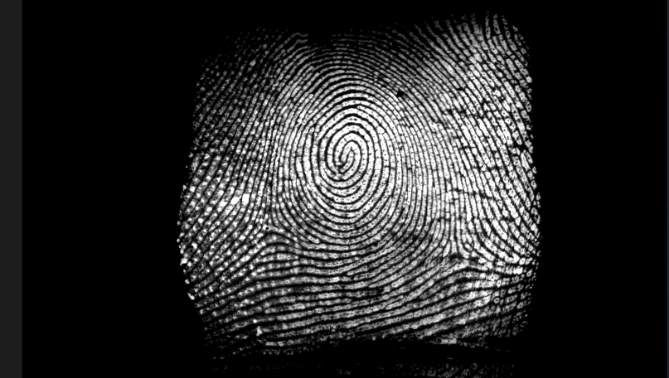deltas: (433, 227, 482, 277), (253, 204, 294, 247)
nucleo: (326, 140, 364, 180)
